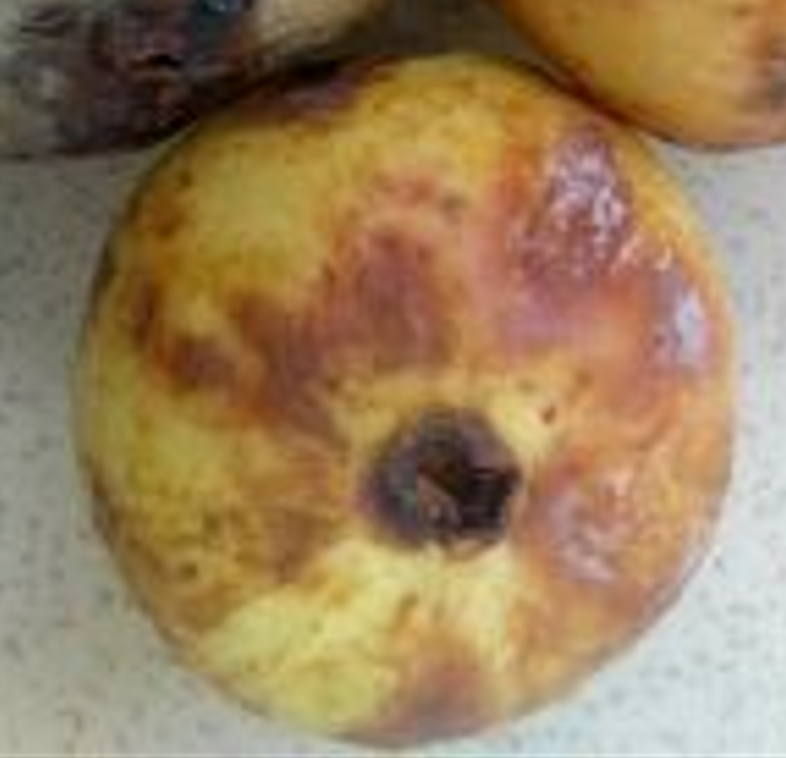guava_C: (71, 48, 735, 746)
